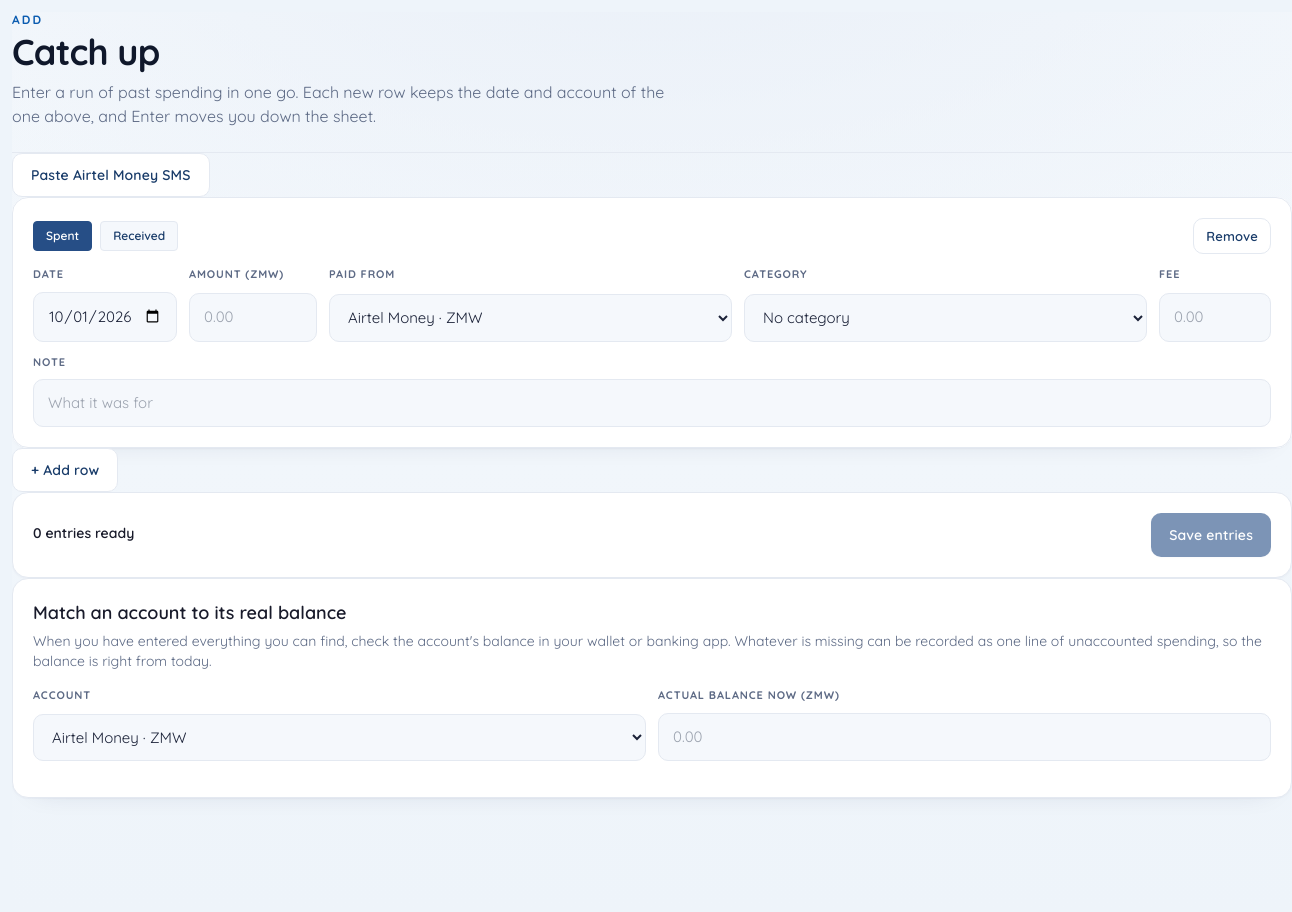
Scenario: CatchUpSheet › saves each row through the ordinary endpoint with its own idempotency key
In the field labelled "Amount (ZMW)": [253, 317] box [189,293,317,342], type "85.50"
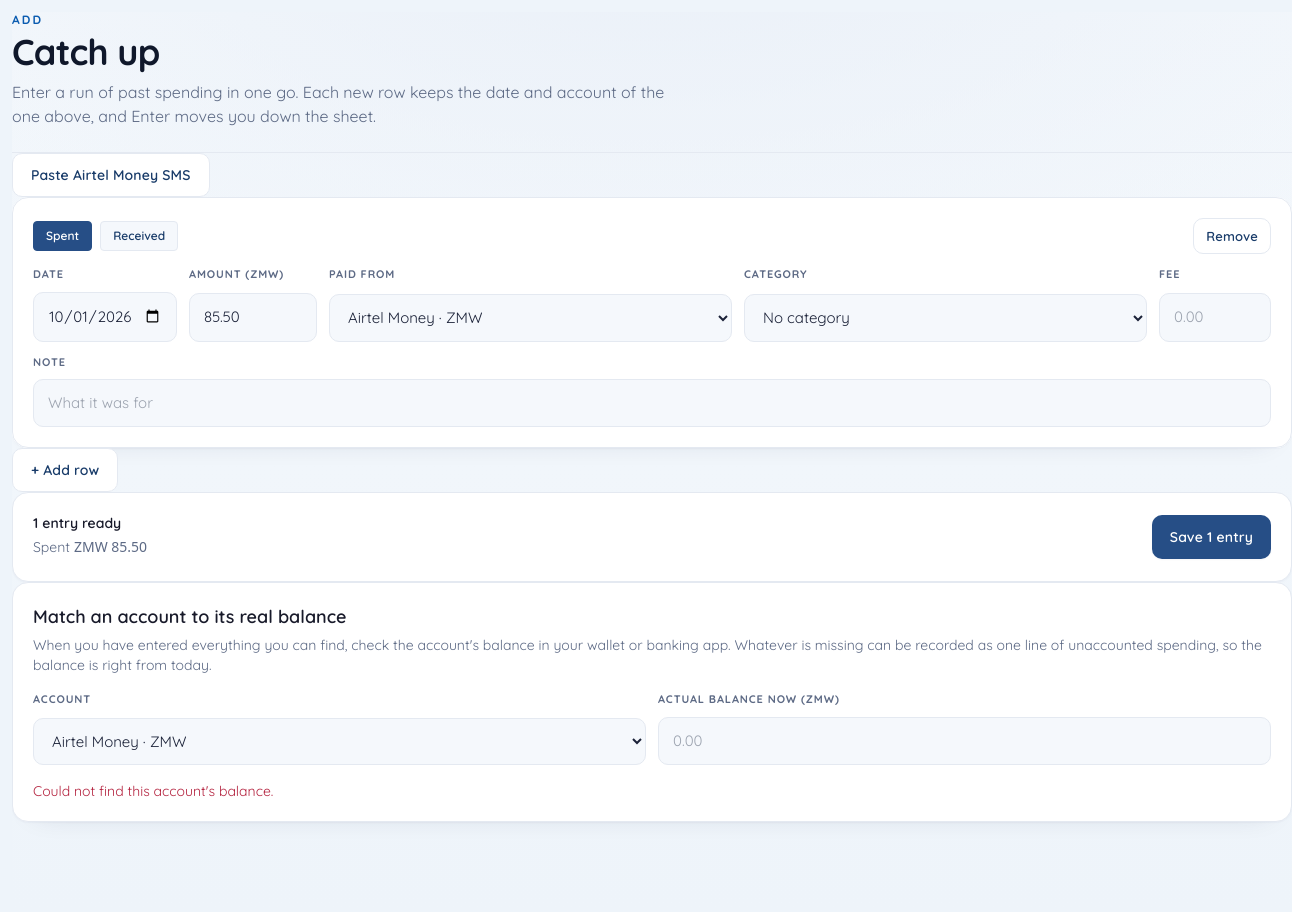
In the field labelled "Fee": [1215, 317] box [1159,293,1271,342], type "2"
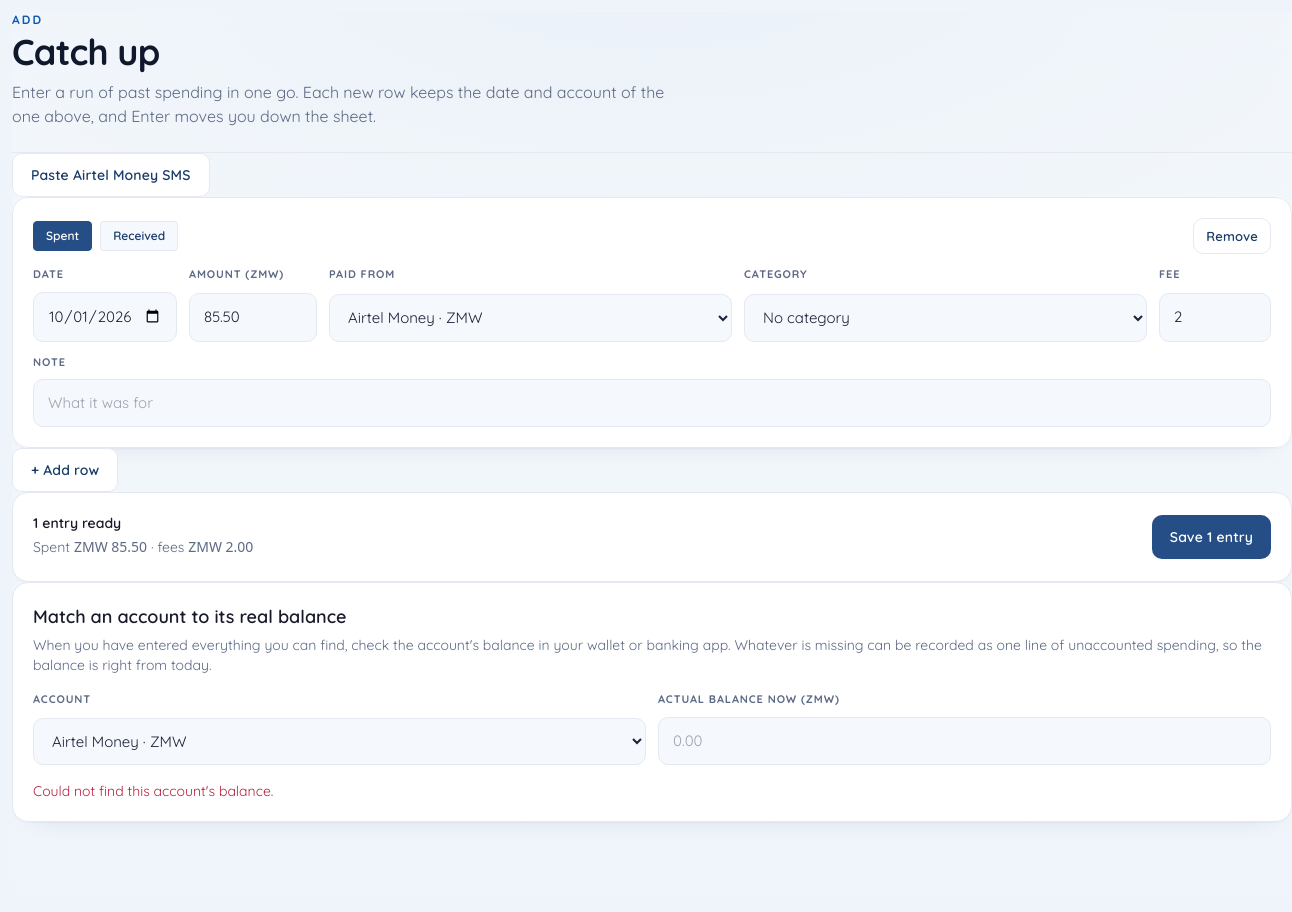
Click the button "Save 1 entry": [1211, 537] box [1152,515,1271,559]
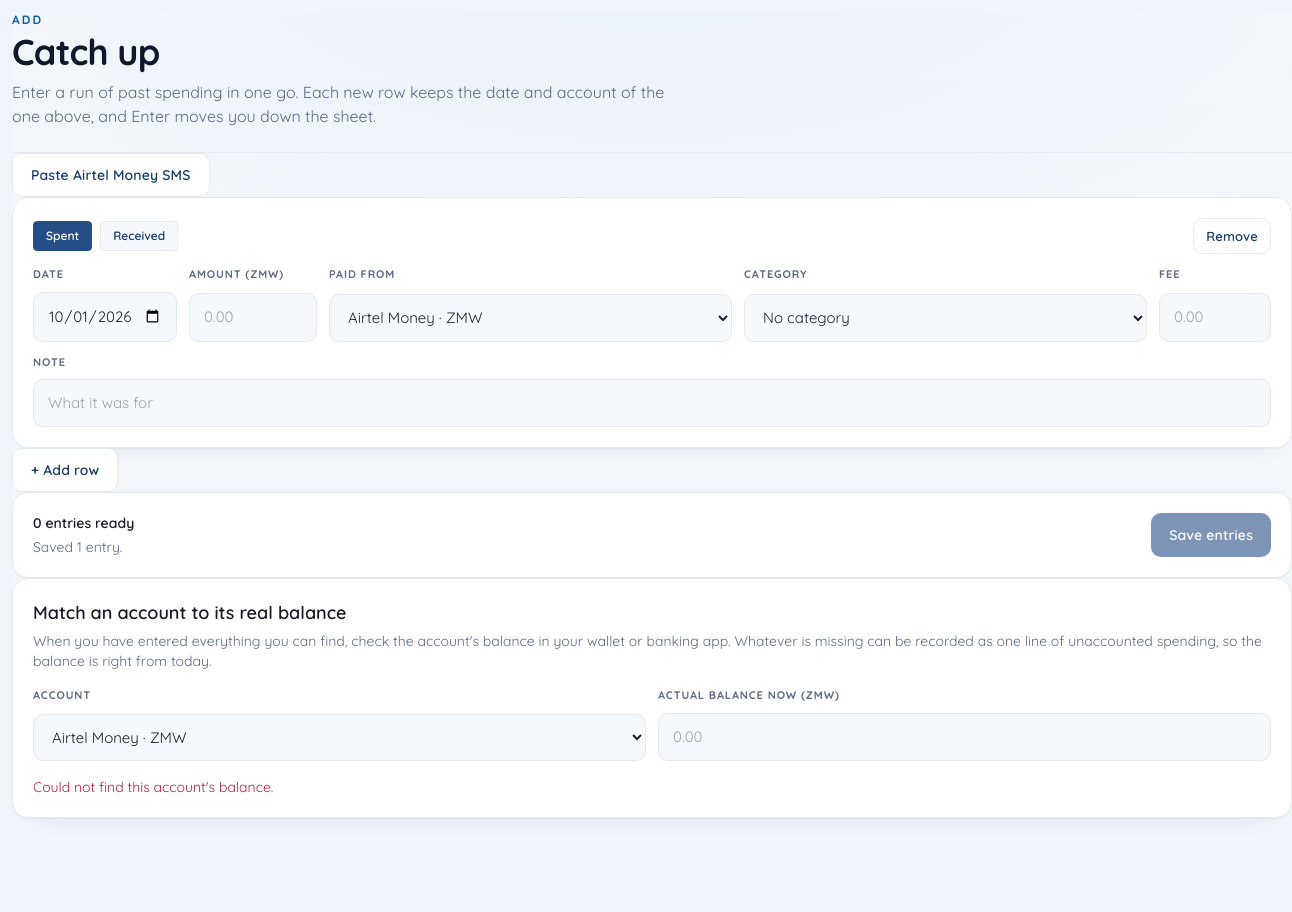
Result: the text "Saved 1 entry." is shown at [33,538,122,556]
Result: the field labelled "Amount (ZMW)" is empty at [189,293,317,342]
